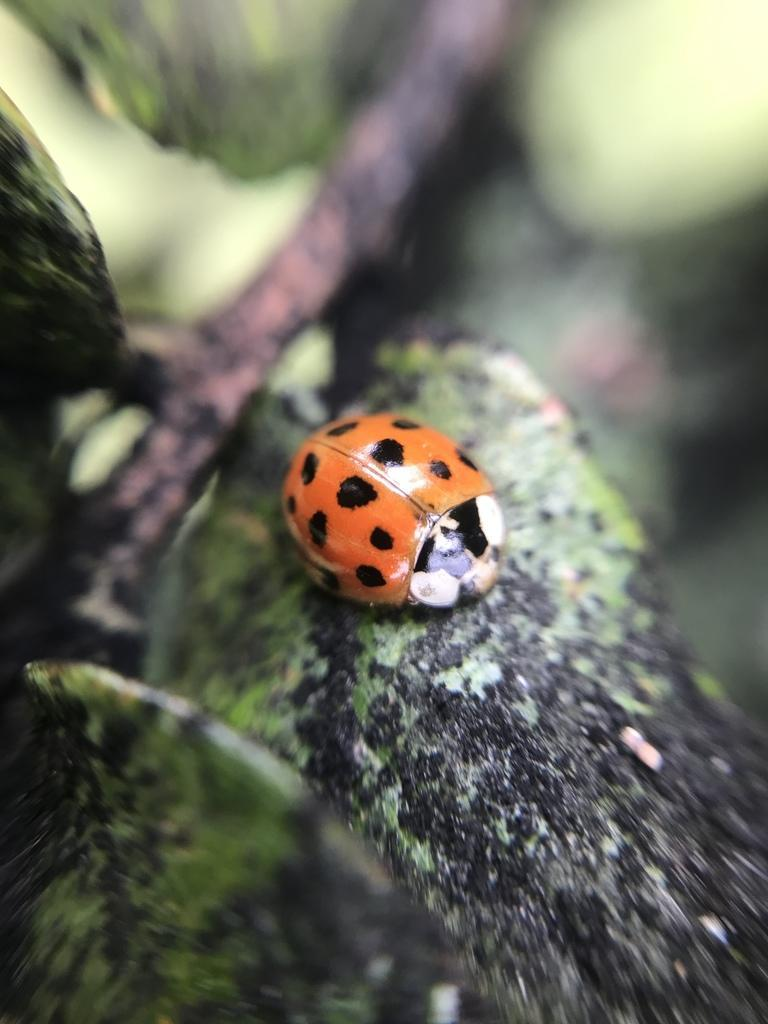ladybug: (279, 411, 511, 614)
